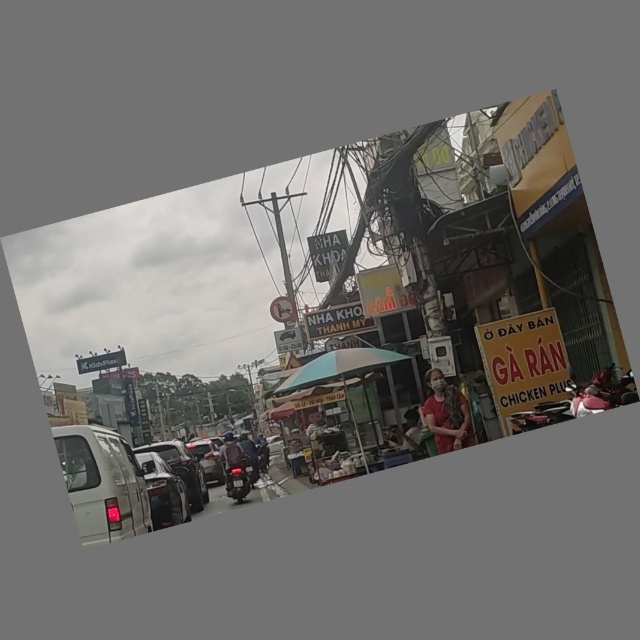P.139: (267, 294, 298, 325)
S.505a*Xe tai: (273, 326, 305, 354)
W.205b: (278, 355, 310, 375)
